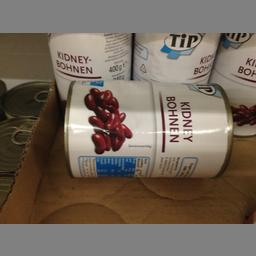beans: (62, 76, 236, 180), (46, 32, 132, 96), (138, 31, 220, 90)
